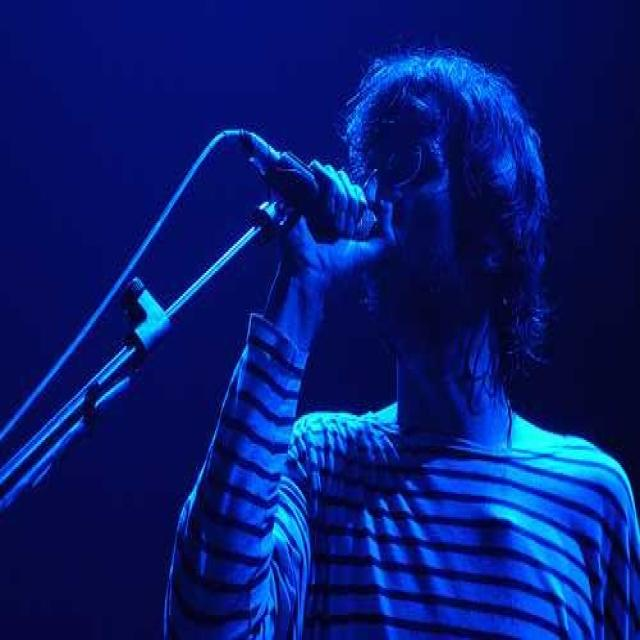microphone: (238, 127, 371, 240)
